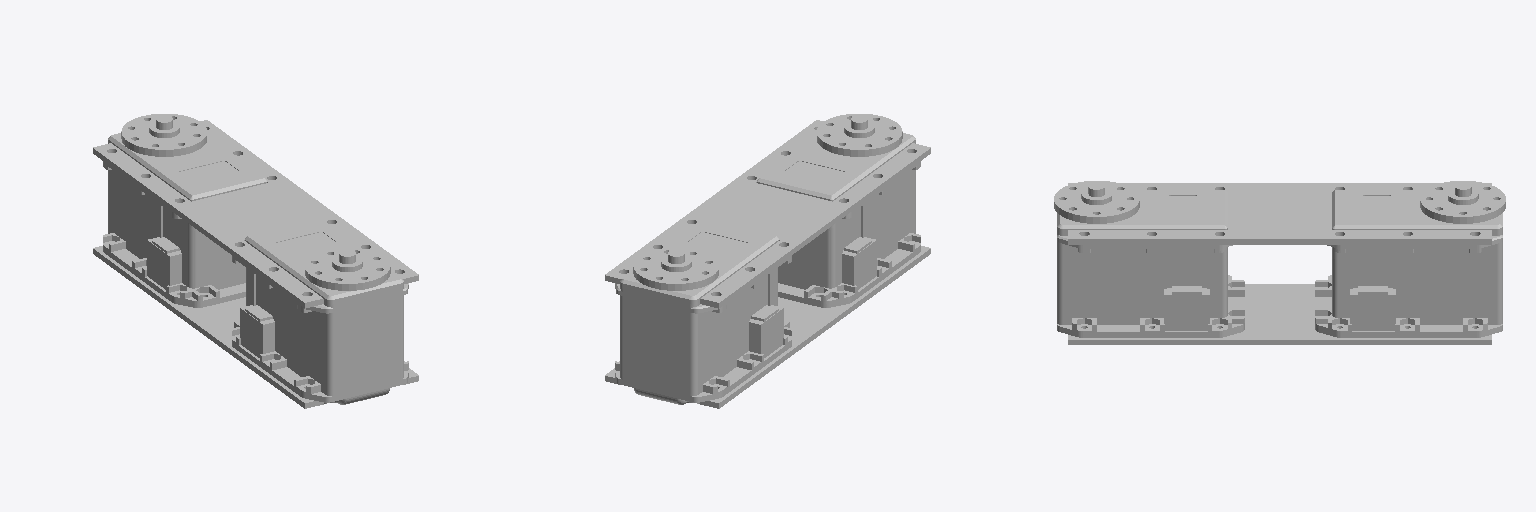
3 renders of one model, left to right at view 1: azimuth 30°, elevation 25°; view 2: azimuth 150°, elevation 25°; view 3: azimuth 270°, elevation 25°, orthographic.
Parts seen in each view (by area): view 1: Body1; view 2: Body1; view 3: Body1.
Part boxes in pixels (x1,y1,x2,y2): Body1: (93, 114, 418, 408); Body1: (605, 114, 930, 408); Body1: (1054, 181, 1505, 344).
Bounding box in the file's own units: 0.043 × 0.05 × 0.147.